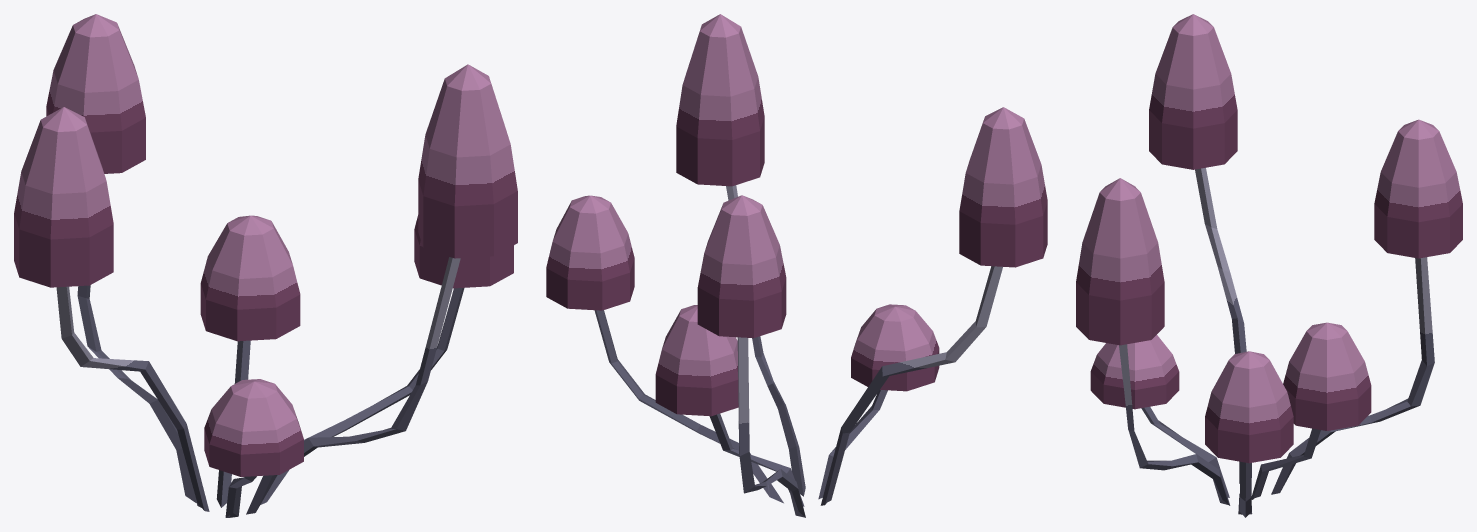
Rendered from NightFlowers.glb.
3 renders of one model, left to right at view 1: azimuth 30°, elevation 25°; view 2: azimuth 150°, elevation 25°; view 3: azimuth 270°, elevation 25°, orthographic. The views are drawn at different scales.
Parts seen in each view (by area): view 1: Tree.077; view 2: Tree.077; view 3: Tree.077.
Boxes of the visible parts, x1,y1,x2,y2 form: Tree.077: (14, 14, 517, 517); Tree.077: (546, 14, 1047, 517); Tree.077: (1076, 14, 1462, 517).
Bounding box in the file's own units: 0.8242 × 0.7203 × 0.6159.
1 material, 1 textured.
